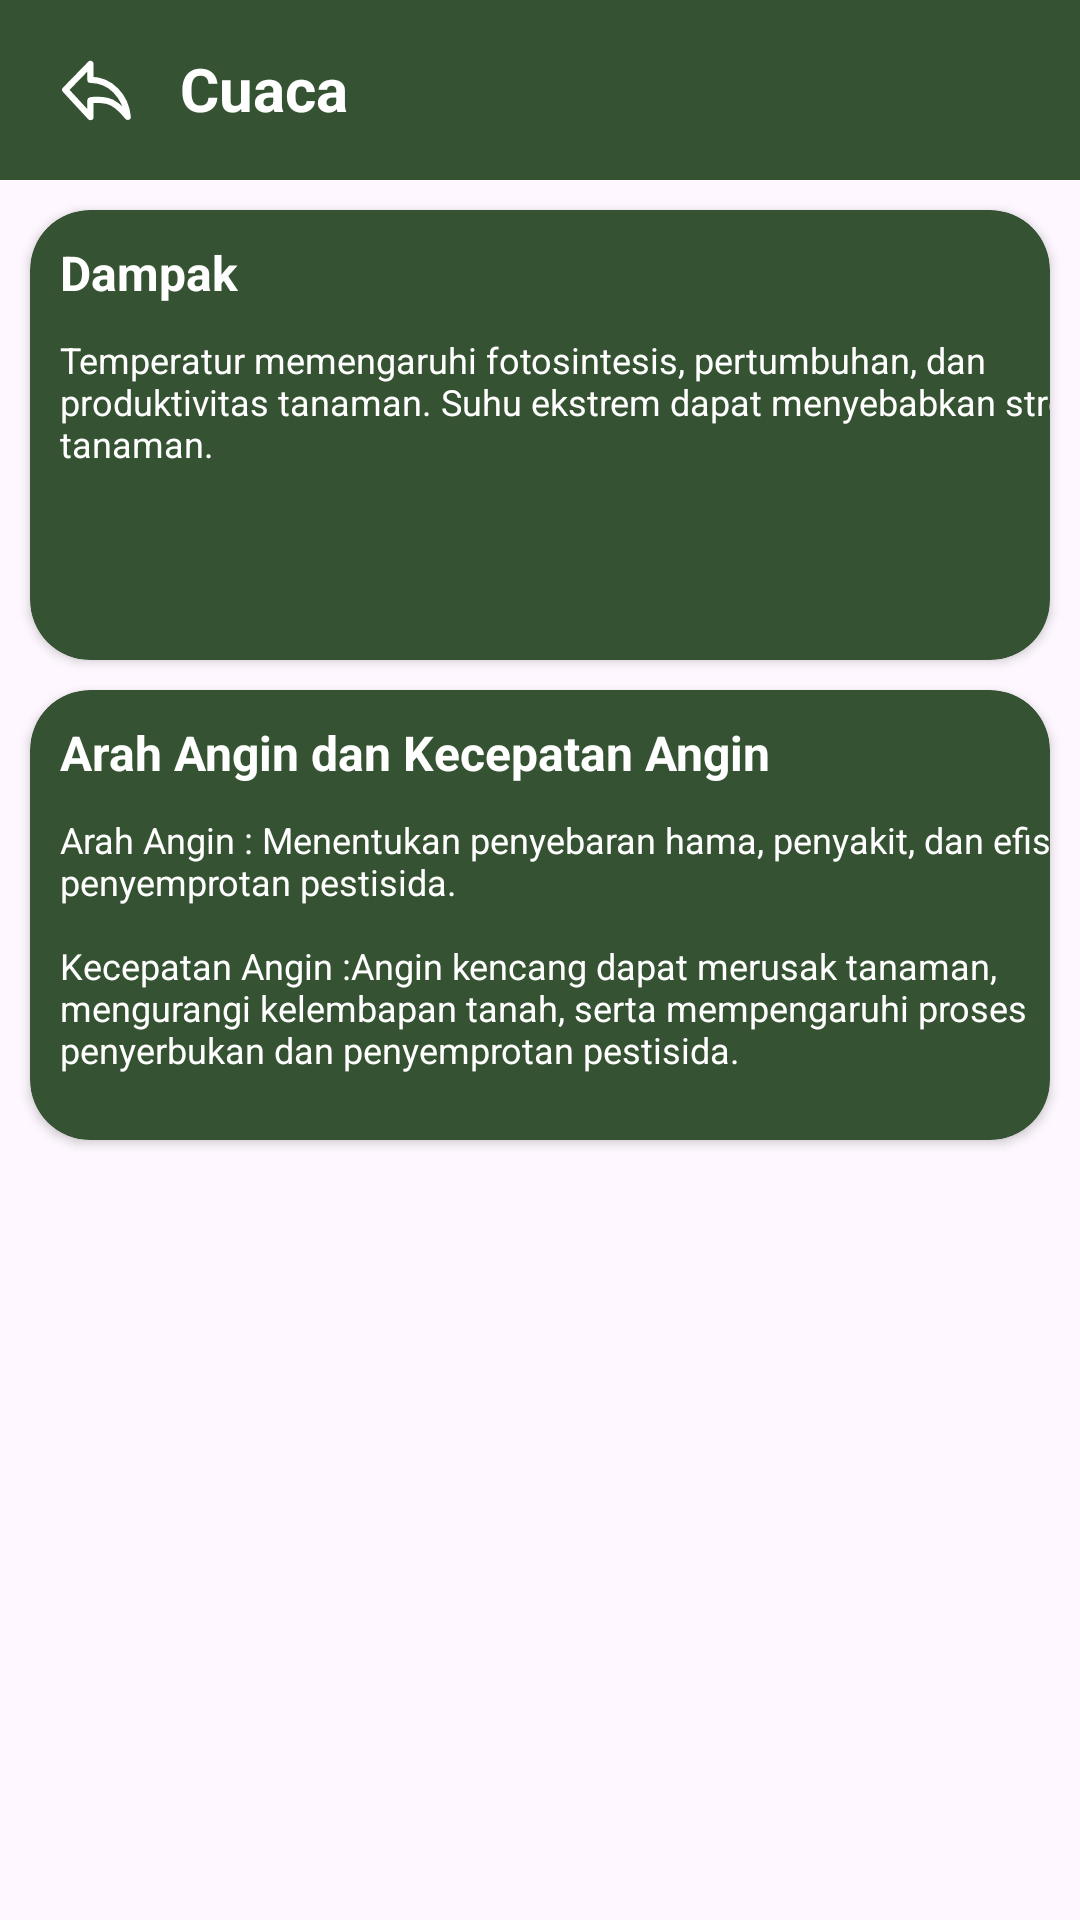

Icon bounding boxes for this 1080w x 1920h phone screenshot, format [x1,y1,x2,y2]:
back button description: [62,60,131,121]
